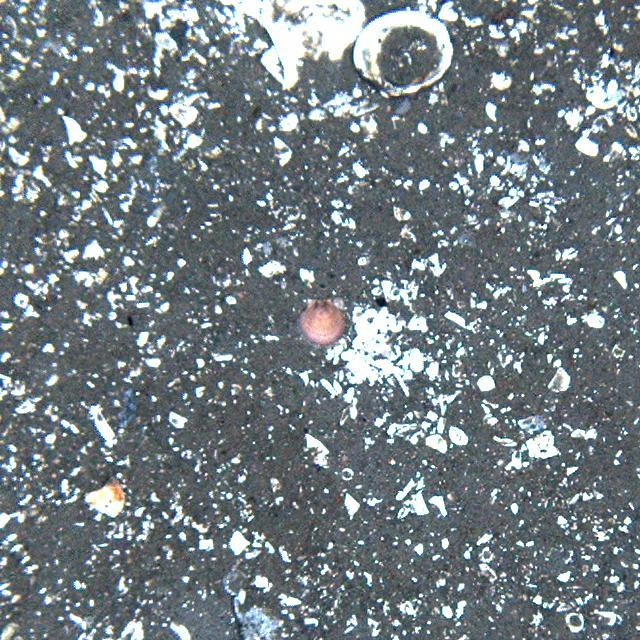scallop: (293, 292, 354, 350)
